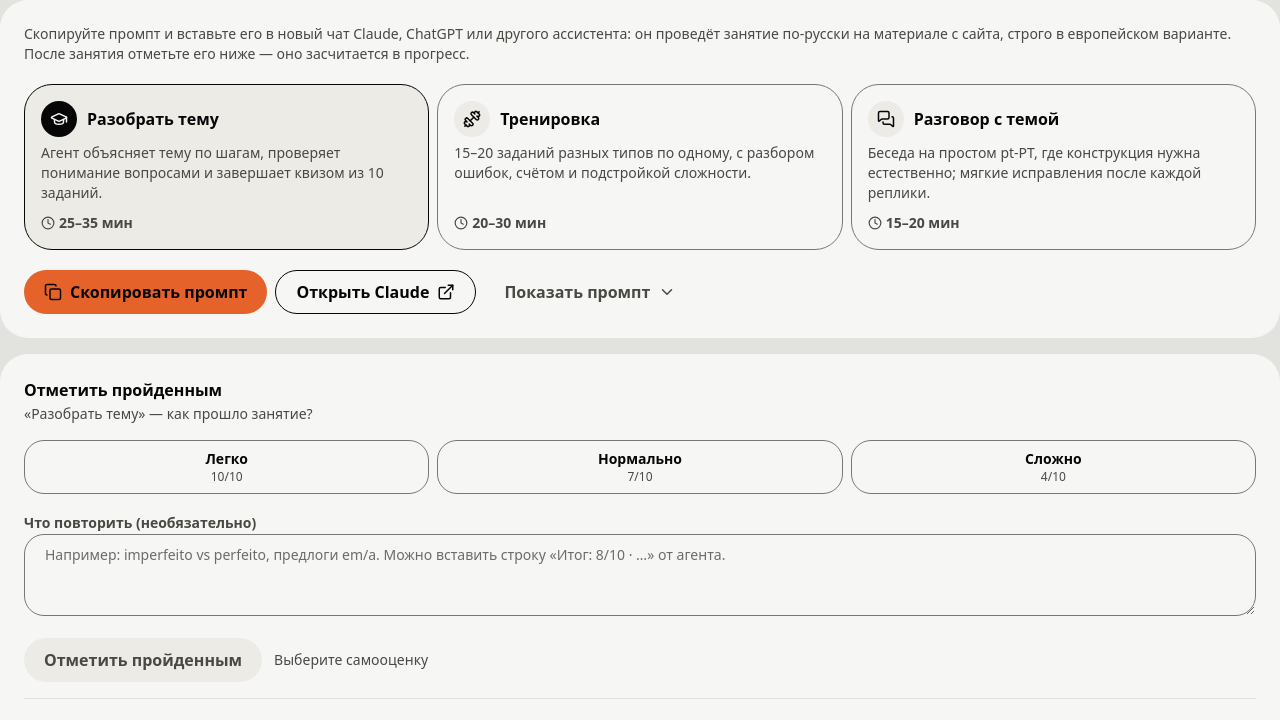
it: TutorPanel: mode and prompt › «Скопировать промпт» writes the current prompt to the clipboard and toasts
Click the radio button labelled "Тренировка" at (640, 167), box [437,84,843,250]
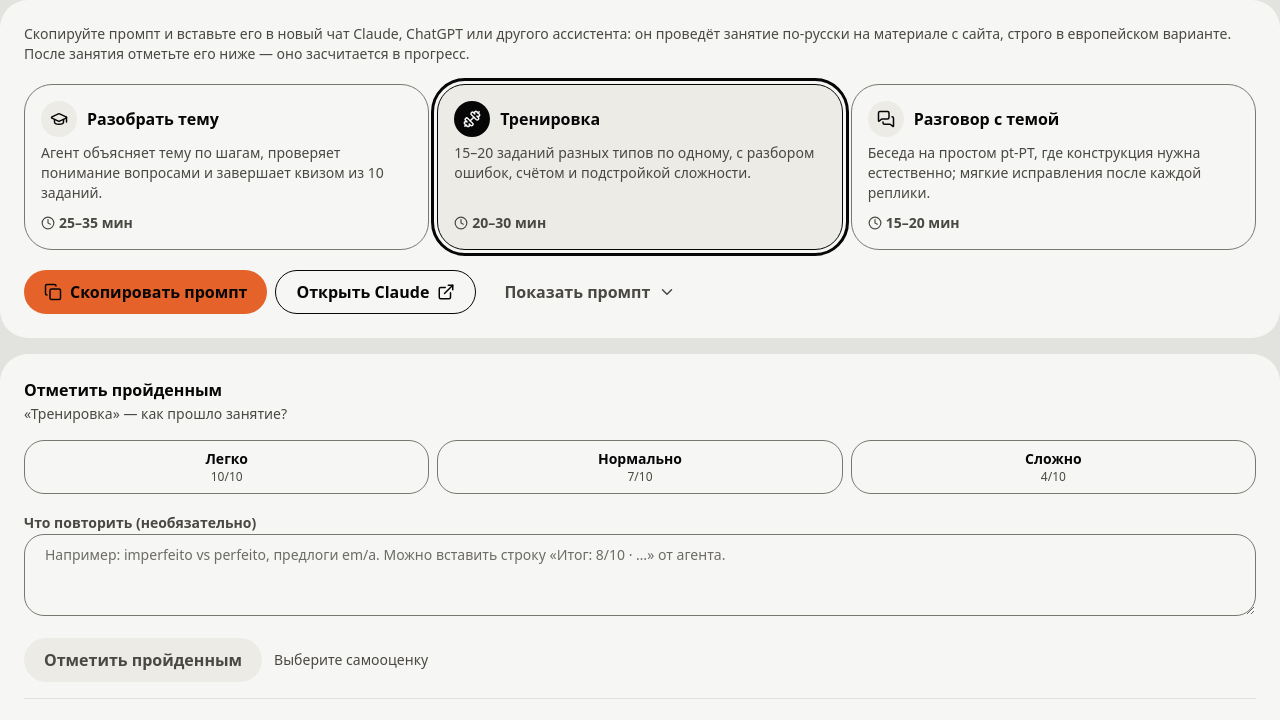
Click the button "Скопировать промпт" at (146, 292), box [24,270,268,314]
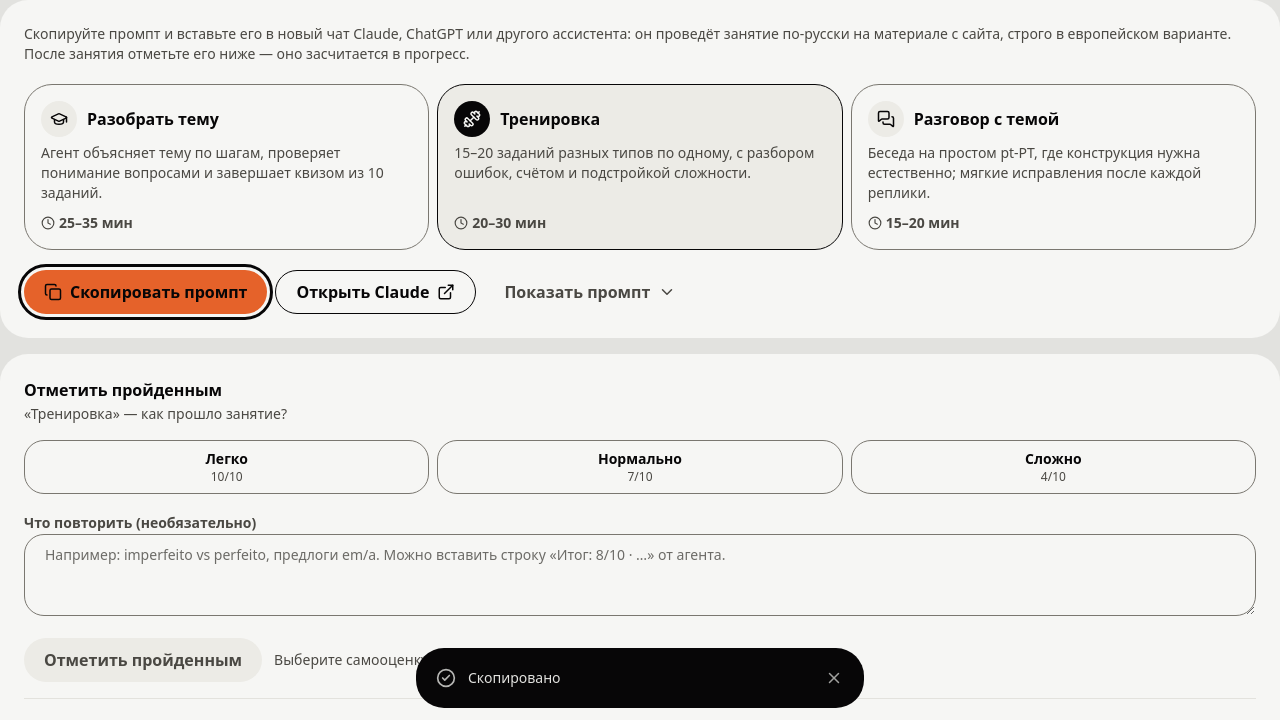
Result: the text "Скопировано" is shown at [468,668,561,687]
